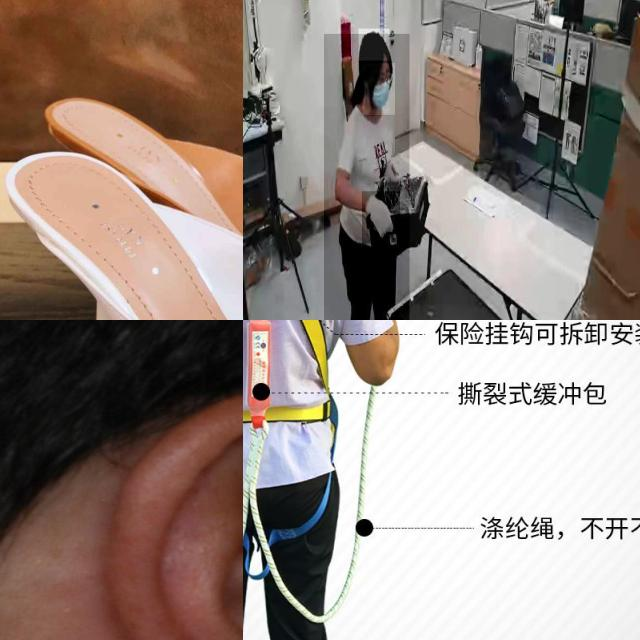Harness: (243, 320, 335, 527)
No_Ear-Protection: (103, 386, 243, 640)
Sandals: (0, 130, 243, 320)
face_mask: (363, 63, 395, 115)
hand_glove: (362, 191, 400, 244)
head_nohelmet: (358, 28, 390, 62)
person: (324, 33, 410, 320)
